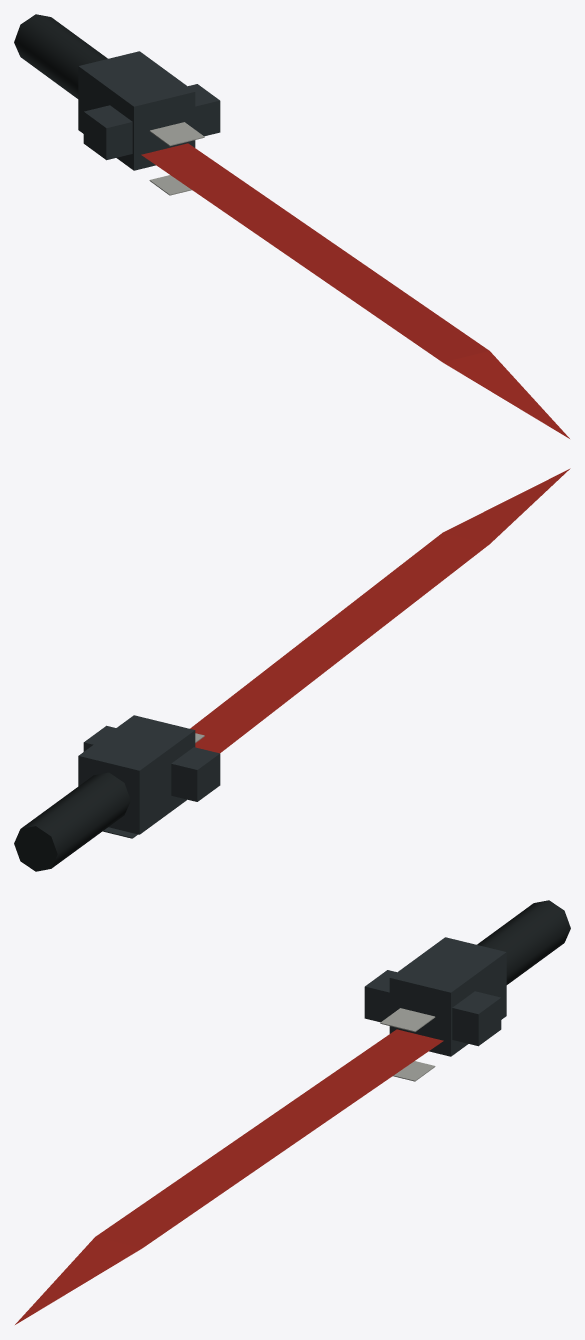
3 views of the same model, one above another, from view 1: azimuth 30°, elevation 25°; view 2: azimuth 150°, elevation 25°; view 3: azimuth 330°, elevation 25° (orthographic).
Parts seen in each view (by area): view 1: weapon-energy-sword-painted; view 2: weapon-energy-sword-painted; view 3: weapon-energy-sword-painted.
Boxes of the visible parts, box(x1,y1,x2,y2) form: weapon-energy-sword-painted: box(14, 14, 569, 438); weapon-energy-sword-painted: box(14, 468, 570, 871); weapon-energy-sword-painted: box(15, 900, 570, 1324).
Bounding box in the file's own units: 0.6778 × 0.4301 × 5.53.
